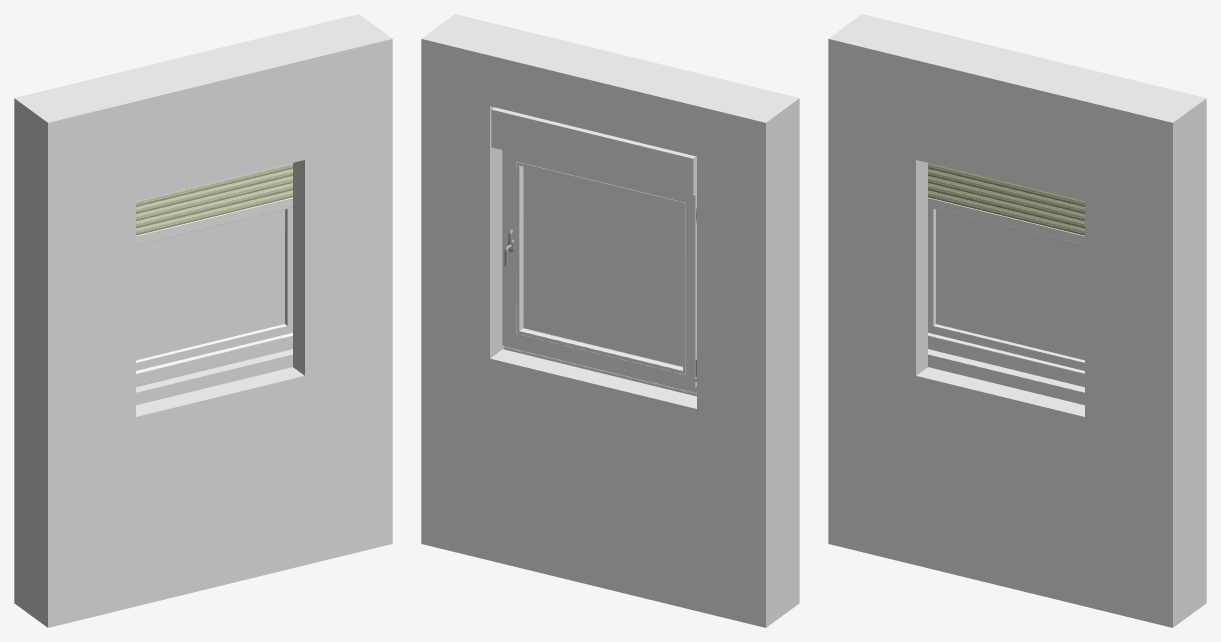
File: wall.glb
3 renders of one model, left to right at view 1: azimuth 30°, elevation 25°; view 2: azimuth 150°, elevation 25°; view 3: azimuth 330°, elevation 25°, orthographic.
Visible parts, largest first — view 1: al_bez_male_niskie, al_rol_duze_niskie.1, IL_altbau_bruestung2.1-outside, glas, lamellen, profile.3-PVC, IL_altbau_bruestung2.1-plaster, Endstab, IL_altbau_bruestung2.1-inside; view 2: IL_altbau_bruestung2.1-wall, glas, IL_altbau_bruestung2.1-outside, profile.3-PVC, al_bez_male_niskie, kasten, IL_altbau_bruestung2.1-inside, al_rol_duze_niskie.1, FBA; view 3: al_bez_male_niskie, al_rol_duze_niskie.1, IL_altbau_bruestung2.1-outside, glas, lamellen, profile.3-PVC, IL_altbau_bruestung2.1-plaster, Endstab, IL_altbau_bruestung2.1-inside.
Boxes of the visible parts, left/top/right/bottom form: al_bez_male_niskie: left=36, top=30, right=392, bottom=627; al_rol_duze_niskie.1: left=36, top=30, right=392, bottom=627; IL_altbau_bruestung2.1-outside: left=14, top=14, right=380, bottom=618; glas: left=136, top=209, right=284, bottom=360; lamellen: left=136, top=163, right=292, bottom=235; profile.3-PVC: left=136, top=207, right=292, bottom=385; IL_altbau_bruestung2.1-plaster: left=136, top=354, right=292, bottom=405; Endstab: left=136, top=197, right=292, bottom=244; IL_altbau_bruestung2.1-inside: left=136, top=349, right=292, bottom=392; IL_altbau_bruestung2.1-wall: left=421, top=39, right=765, bottom=627; glas: left=523, top=167, right=682, bottom=366; IL_altbau_bruestung2.1-outside: left=421, top=23, right=787, bottom=627; profile.3-PVC: left=502, top=150, right=696, bottom=392; al_bez_male_niskie: left=443, top=14, right=799, bottom=611; kasten: left=491, top=107, right=696, bottom=196; IL_altbau_bruestung2.1-inside: left=490, top=106, right=696, bottom=408; al_rol_duze_niskie.1: left=444, top=14, right=799, bottom=257; FBA: left=503, top=345, right=696, bottom=396; al_bez_male_niskie: left=828, top=30, right=1184, bottom=627; al_rol_duze_niskie.1: left=828, top=30, right=1184, bottom=619; IL_altbau_bruestung2.1-outside: left=840, top=14, right=1206, bottom=618; glas: left=936, top=209, right=1084, bottom=360; lamellen: left=928, top=163, right=1084, bottom=235; profile.3-PVC: left=928, top=207, right=1084, bottom=385; IL_altbau_bruestung2.1-plaster: left=928, top=354, right=1084, bottom=405; Endstab: left=928, top=197, right=1084, bottom=244; IL_altbau_bruestung2.1-inside: left=928, top=349, right=1084, bottom=392.
Bounding box in the file's own units: 200 × 280 × 35.26.
